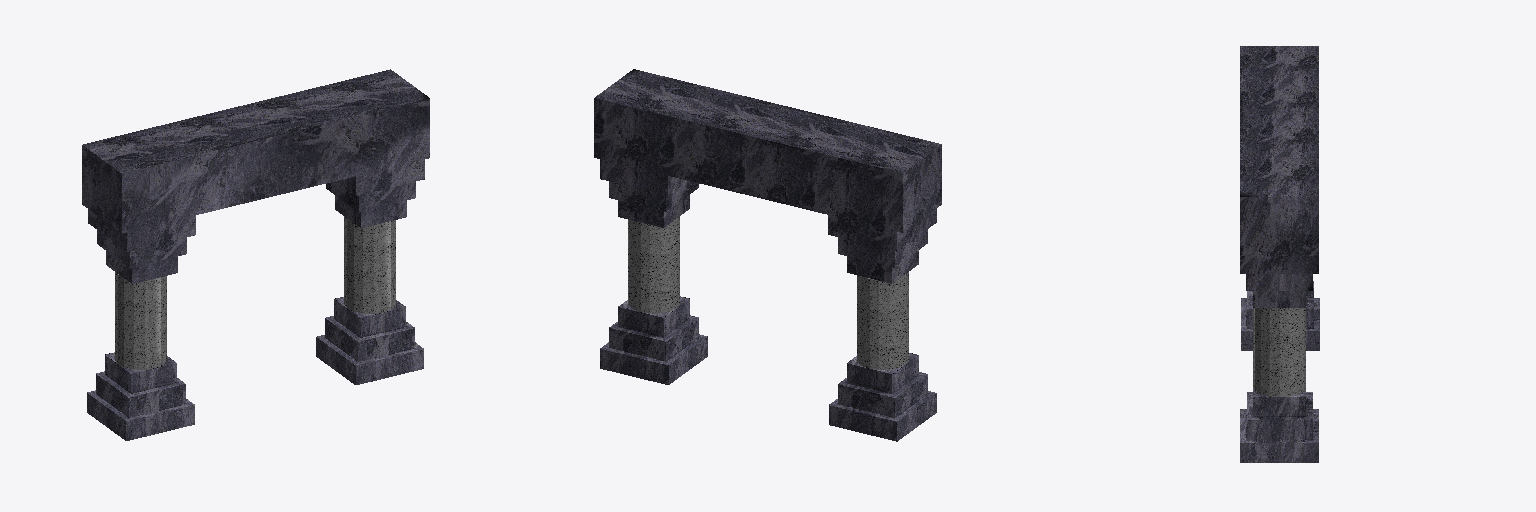
3 renders of one model, left to right at view 1: azimuth 30°, elevation 25°; view 2: azimuth 150°, elevation 25°; view 3: azimuth 270°, elevation 25°, orthographic.
Parts seen in each view (by area): view 1: object_1; view 2: object_1; view 3: object_1.
Boxes of the visible parts, x1=… form: object_1: x1=82, y1=69, x2=429, y2=440; object_1: x1=594, y1=69, x2=941, y2=441; object_1: x1=1240, y1=46, x2=1319, y2=462.
Bounding box in the file's own units: 108 × 90.05 × 24.3.
5 materials, 3 textured.